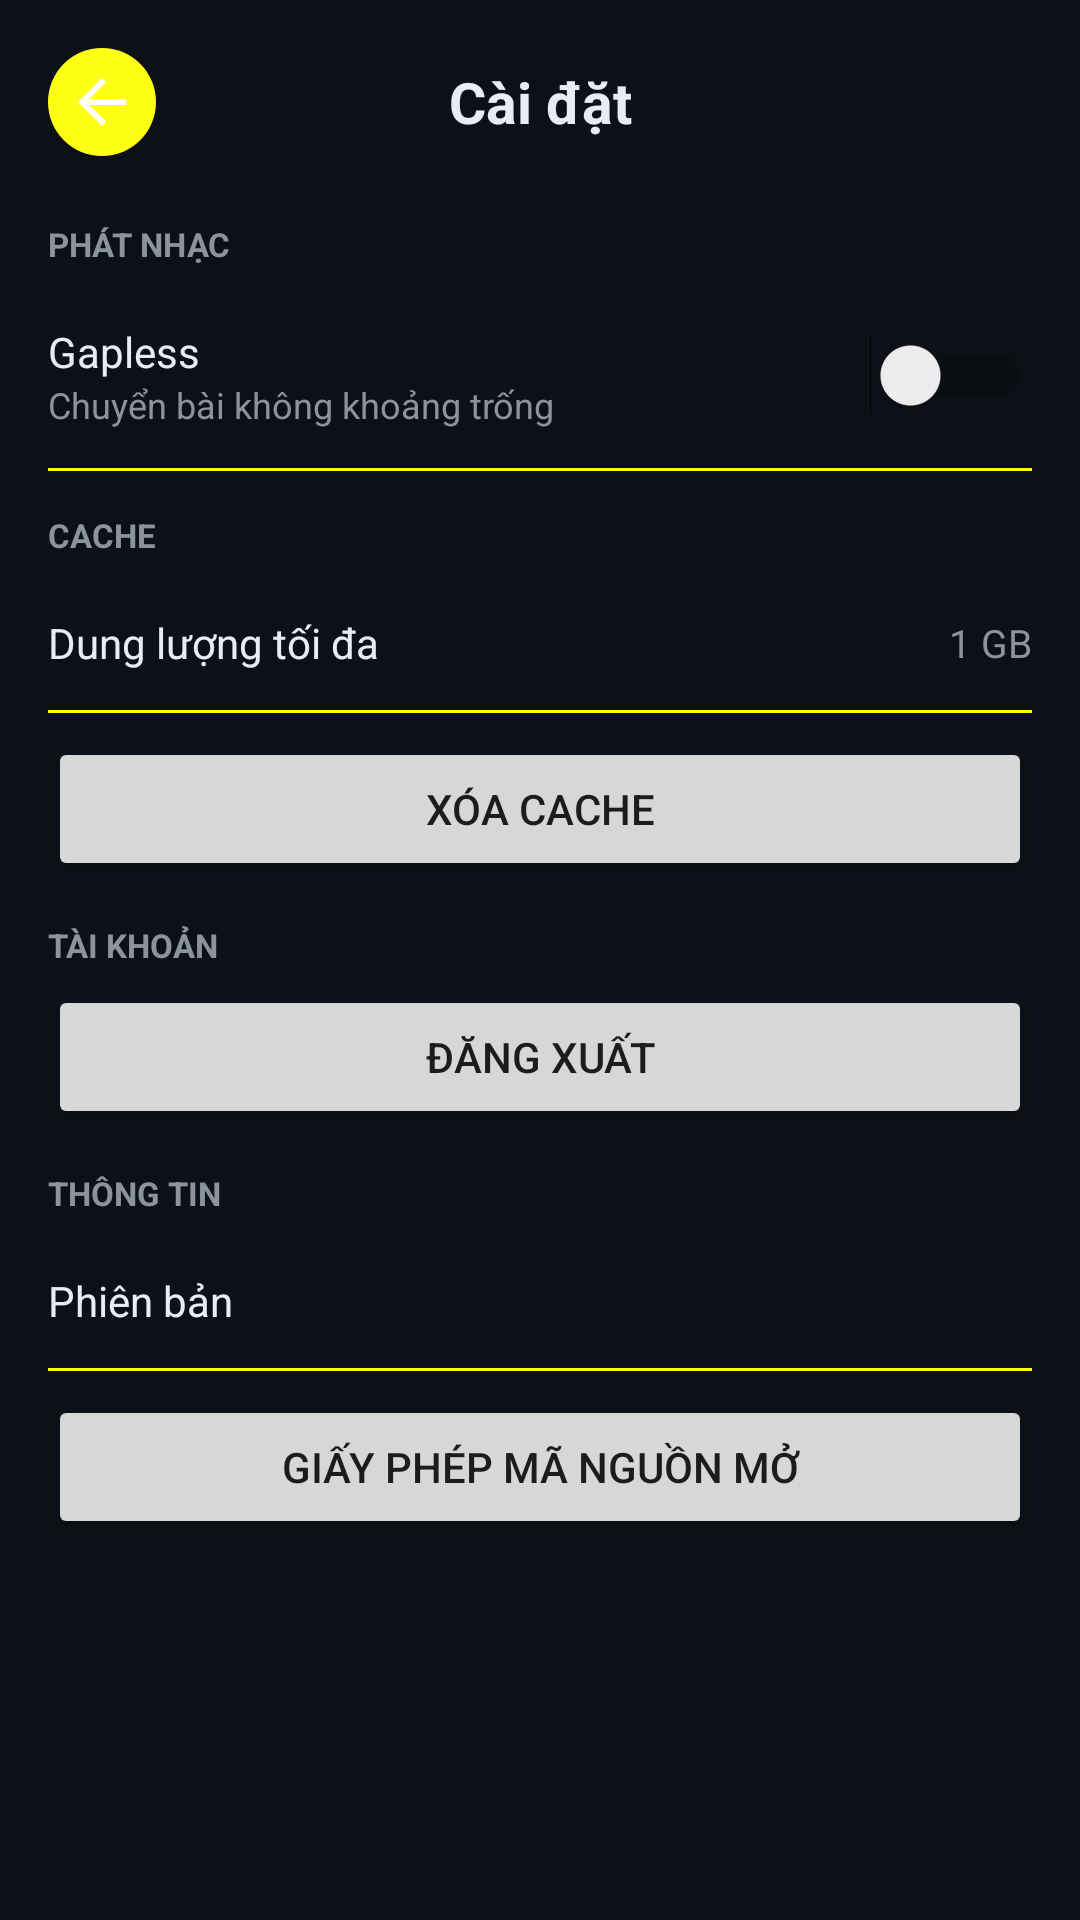

Point at icon controls on the screen. Image size 1080px×1920px, points as (x,y).
Quay lại: (102,102)
